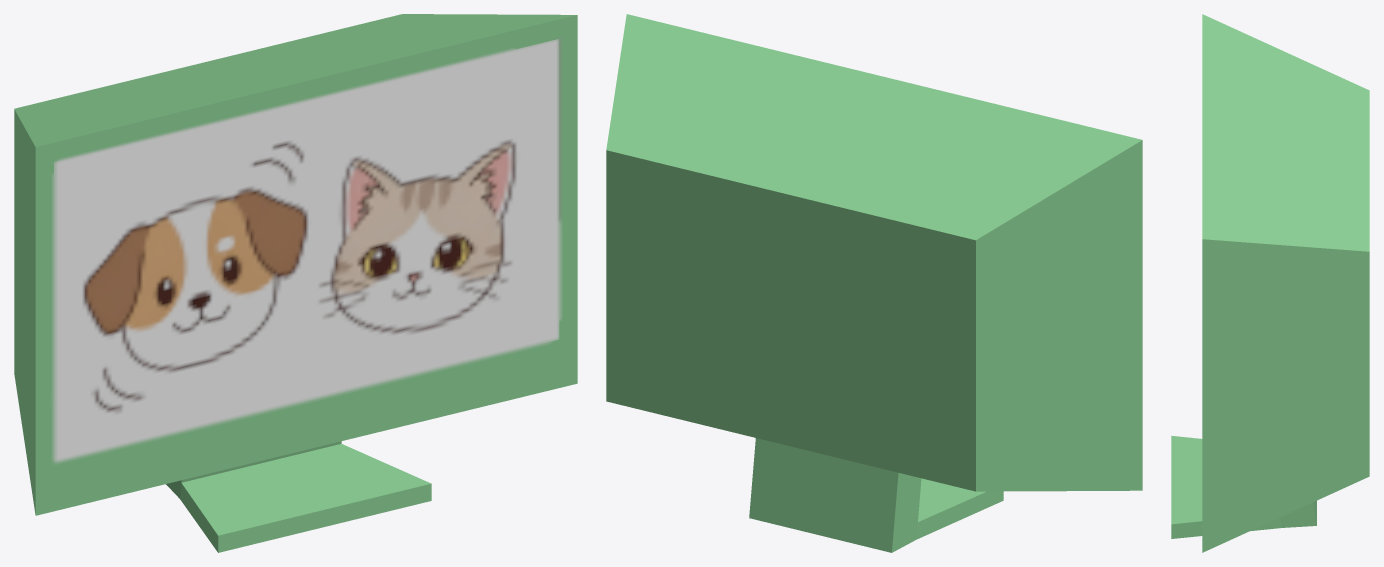
File: team monitor.fbx
3 renders of one model, left to right at view 1: azimuth 30°, elevation 25°; view 2: azimuth 150°, elevation 25°; view 3: azimuth 270°, elevation 25°, orthographic. The views are drawn at different scales.
Parts seen in each view (by area): view 1: monitor; view 2: monitor; view 3: monitor.
Part boxes in pixels (x1,y1,x2,y2): monitor: [14, 14, 577, 552]; monitor: [606, 14, 1142, 552]; monitor: [1171, 14, 1369, 552].
Size of the model in its own units: 166 by 126 by 61.65.
1 material, 1 textured.
